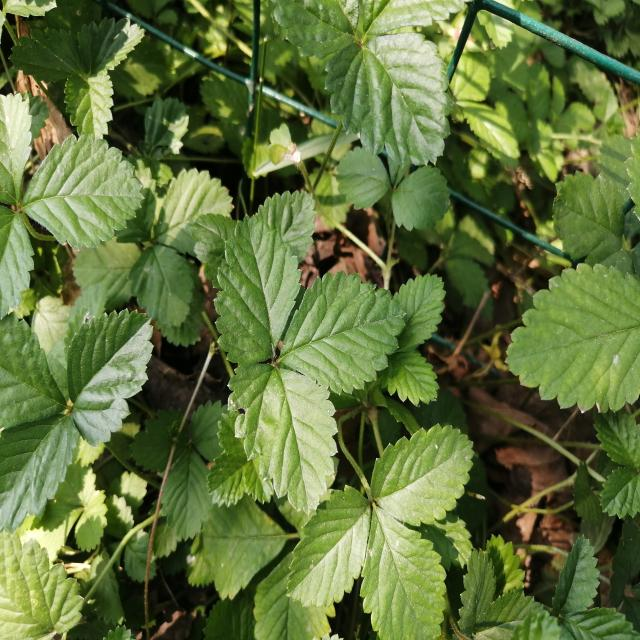Mock_strawberry: (211, 210, 409, 514), (273, 441, 485, 608)
